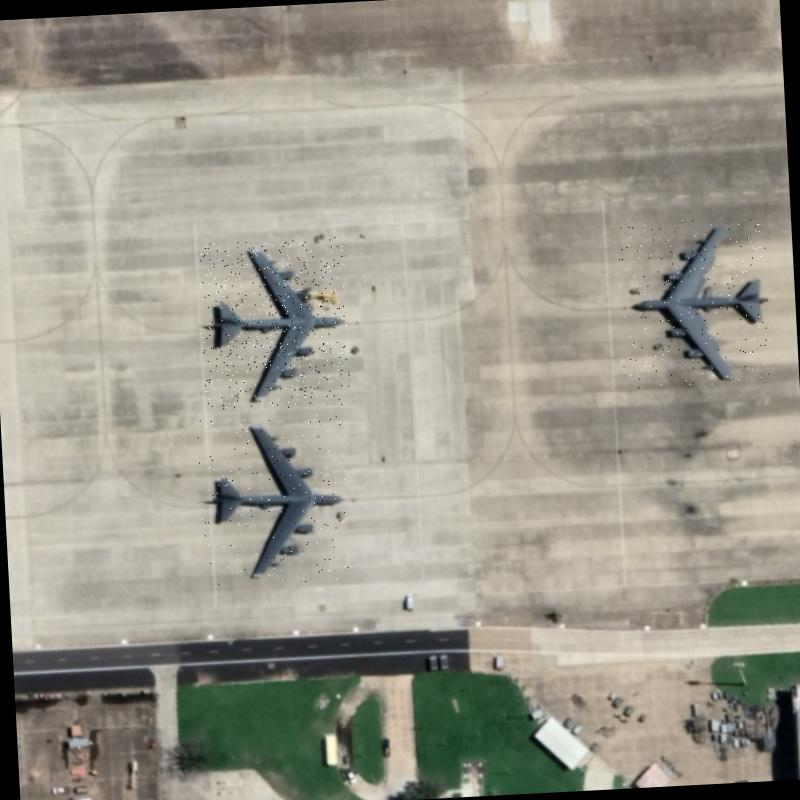A8: (615, 216, 773, 392), (196, 412, 350, 588), (198, 237, 352, 412)
